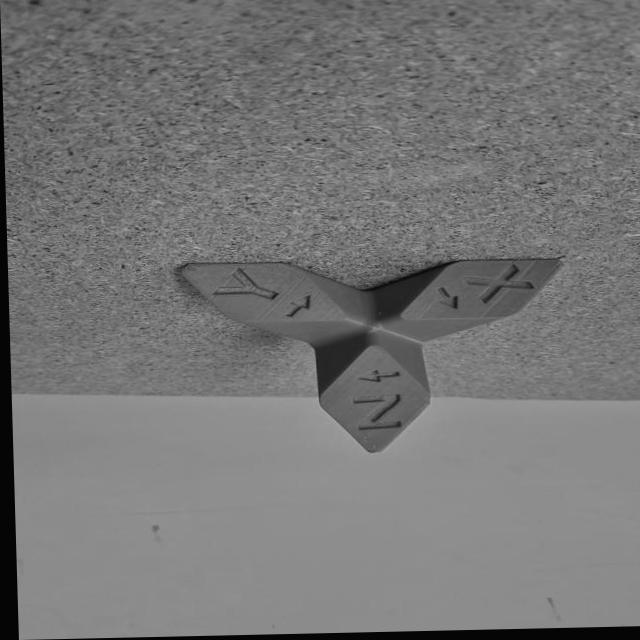eje: (174, 251, 577, 462)
